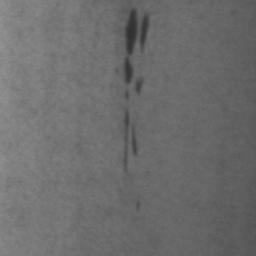Inclusion: (124, 9, 151, 56), (124, 110, 138, 169), (125, 59, 146, 93)
